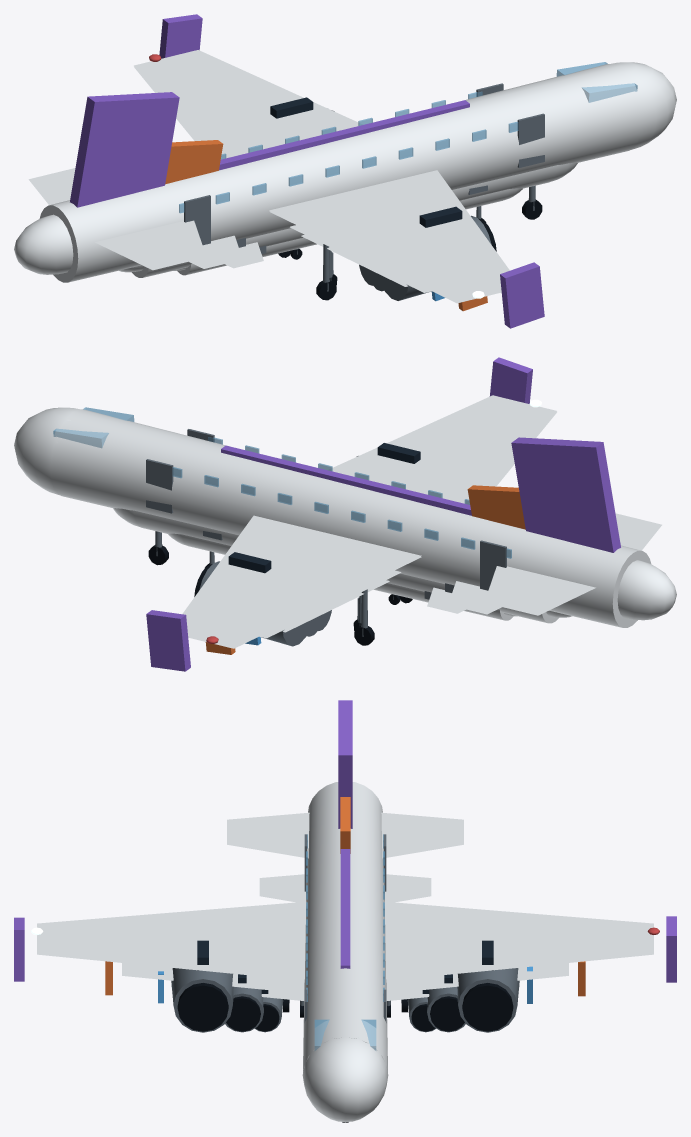
Rendered from aircraft-fleet.glb.
3 renders of one model, top to bottom at view 1: azimuth 30°, elevation 25°; view 2: azimuth 150°, elevation 25°; view 3: azimuth 270°, elevation 25°, orthographic. The views are drawn at different scales.
Visible parts, largest first — view 1: Fuselage (×3), Main_Wing_L (×2), Vertical_Tail (×2), Main_Wing_R, Tailplane_L (×3), Nose, Tail_Cone, Livery_Stripe, Winglet_L, Winglet_R, Tailplane_R, Door_-15_R (+5 smaller); view 2: Fuselage (×3), Main_Wing_R (×2), Vertical_Tail (×2), Main_Wing_L, Tailplane_R (×3), Nose, Tail_Cone, Livery_Stripe, Winglet_R, Winglet_L, Tailplane_L, Door_-15_L (+5 smaller); view 3: Fuselage, Main_Wing_L (×2), Main_Wing_R (×2), Nose, Tailplane_L (×2), Tailplane_R (×2), Engine_Inlet_L (×2), Engine_Inlet_R (×2), Vertical_Tail, Engine_L, Engine_R, Livery_Stripe (+3 smaller).
Part boxes in pixels (<box>): Fuselage (×3): <box>39,64,640,282</box>; Main_Wing_L (×2): <box>269,170,509,302</box>; Vertical_Tail (×2): <box>70,92,223,207</box>; Main_Wing_R: <box>134,50,362,159</box>; Tailplane_L (×3): <box>95,220,263,270</box>; Nose: <box>608,62,676,150</box>; Tail_Cone: <box>14,214,73,274</box>; Livery_Stripe: <box>219,100,469,170</box>; Winglet_L: <box>500,262,544,328</box>; Winglet_R: <box>159,14,202,58</box>; Tailplane_R: <box>28,168,75,205</box>; Door_-15_R: <box>184,195,210,245</box>; Fuselage (×3): <box>50,409,651,627</box>; Main_Wing_R (×2): <box>182,515,421,647</box>; Vertical_Tail (×2): <box>467,437,620,552</box>; Main_Wing_L: <box>328,395,556,504</box>; Tailplane_R (×3): <box>427,566,595,615</box>; Nose: <box>14,407,82,495</box>; Tail_Cone: <box>617,560,676,620</box>; Livery_Stripe: <box>221,445,471,515</box>; Winglet_R: <box>146,610,190,671</box>; Winglet_L: <box>489,357,532,403</box>; Tailplane_L: <box>615,513,661,550</box>; Door_-15_L: <box>480,540,506,590</box>; Fuselage: <box>302,782,388,1086</box>; Main_Wing_L (×2): <box>37,901,306,992</box>; Main_Wing_R (×2): <box>384,901,653,992</box>; Nose: <box>303,1037,387,1122</box>; Tailplane_L (×2): <box>227,812,309,902</box>; Tailplane_R (×2): <box>381,812,463,902</box>; Engine_Inlet_L (×2): <box>430,983,513,1031</box>; Engine_Inlet_R (×2): <box>177,983,260,1031</box>; Vertical_Tail: <box>338,700,352,828</box>; Engine_L: <box>457,968,519,1032</box>; Engine_R: <box>171,968,233,1032</box>; Livery_Stripe: <box>340,849,350,968</box>.
Size of what is drawn, in the model's own units: 84.06 by 27.78 by 77.14.
